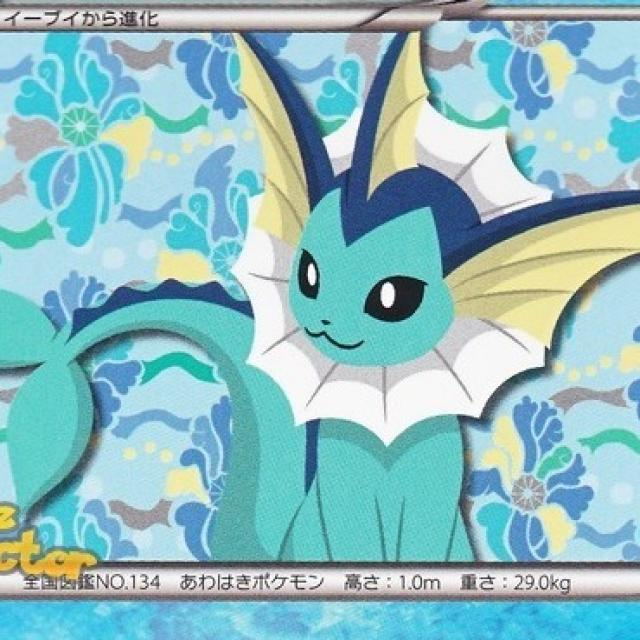Vaporeon: (185, 36, 560, 566)
